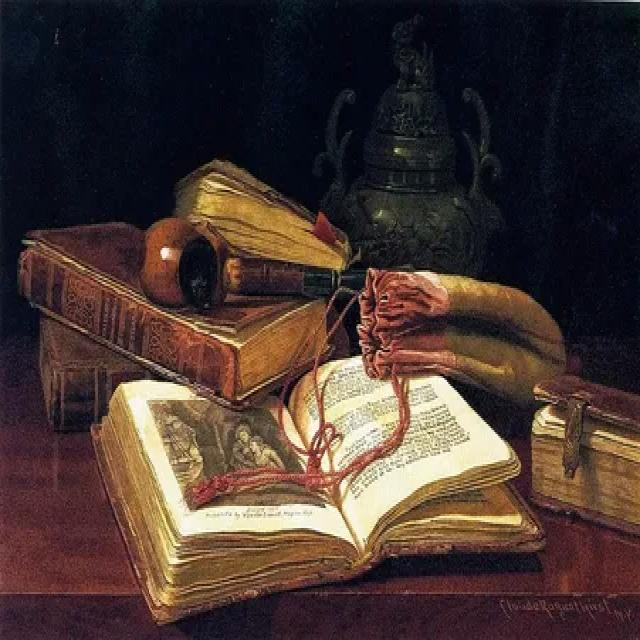book: (89, 336, 569, 634)
